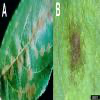Apple Scab Leaf: (1, 0, 53, 99)
